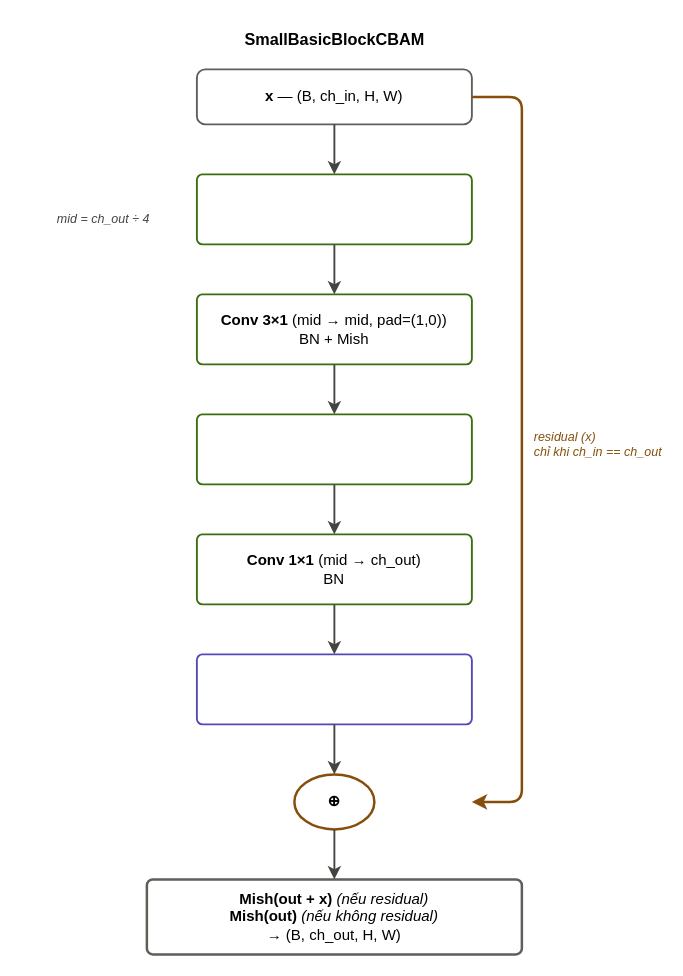
Image size: 683x976. Some labels were removed from this diagram. The shapes that lost their labels are listed below. From the top down, each one's centre as x and y in pixels, then its label:
At [333,209]: "MixConv2d (ch_in → mid, k=[3,5]) BN + Mish".
At [333,449]: "Conv 1×3 (mid → mid, pad=(0,1)) BN + Mish".
At [333,689]: "CBAM Channel attention + Spatial attention".
